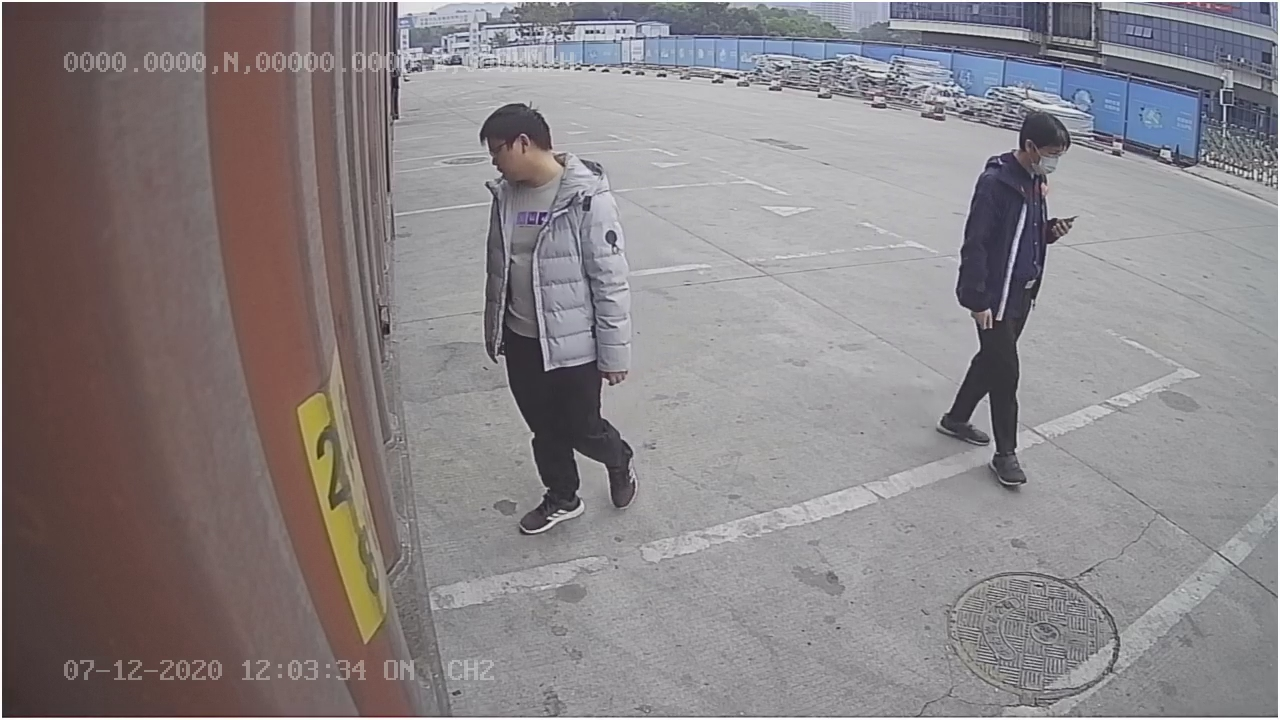person: (469, 98, 636, 534), (931, 102, 1075, 489)
